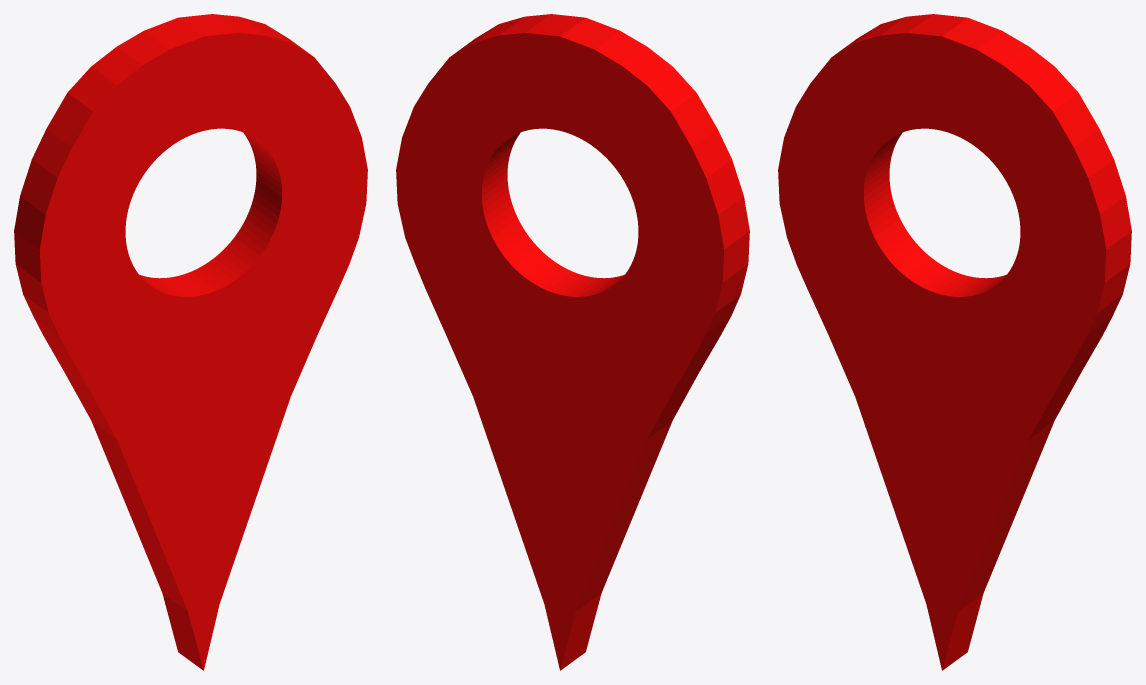
The model's file is pin.gltf.
3 renders of one model, left to right at view 1: azimuth 30°, elevation 25°; view 2: azimuth 150°, elevation 25°; view 3: azimuth 330°, elevation 25°, orthographic.
Visible parts, largest first — view 1: Cylinder; view 2: Cylinder; view 3: Cylinder.
Boxes of the visible parts, x1,y1,x2,y2 form: Cylinder: (14,14,367,670); Cylinder: (396,14,749,670); Cylinder: (778,14,1131,670).
Size of the model in its own units: 2.09 by 3.87 by 0.2892.
